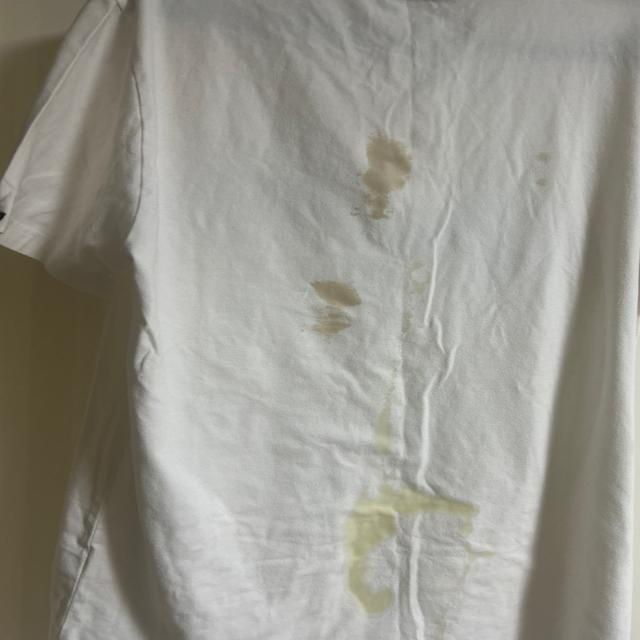stain: (334, 524, 399, 621), (344, 126, 404, 228), (348, 487, 480, 530), (304, 271, 362, 315), (372, 390, 405, 448), (522, 152, 562, 196), (295, 306, 350, 336)
